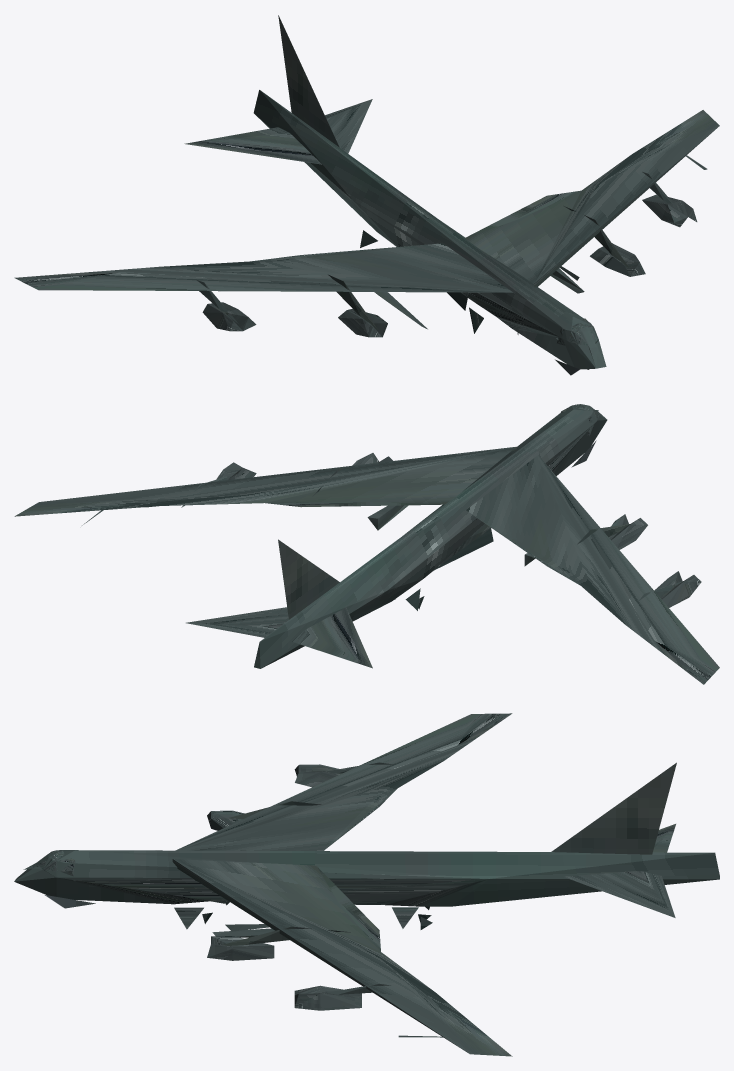
3 views of the same model, one above another, from view 1: azimuth 30°, elevation 25°; view 2: azimuth 150°, elevation 25°; view 3: azimuth 270°, elevation 25° (orthographic). The views are drawn at different scales.
Visible parts, largest first — view 1: Object_6; view 2: Object_6; view 3: Object_6.
Boxes of the visible parts, bbox=[...] form: Object_6: bbox=[14, 15, 719, 375]; Object_6: bbox=[14, 404, 719, 684]; Object_6: bbox=[14, 713, 719, 1056].
Bounding box in the file's own units: 69.55 × 14.91 × 60.49.
1 material, 1 textured.
